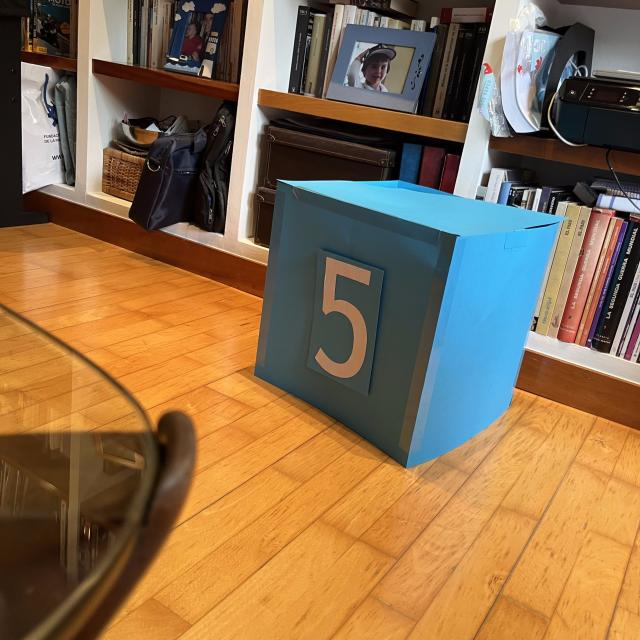box: (250, 171, 566, 470)
